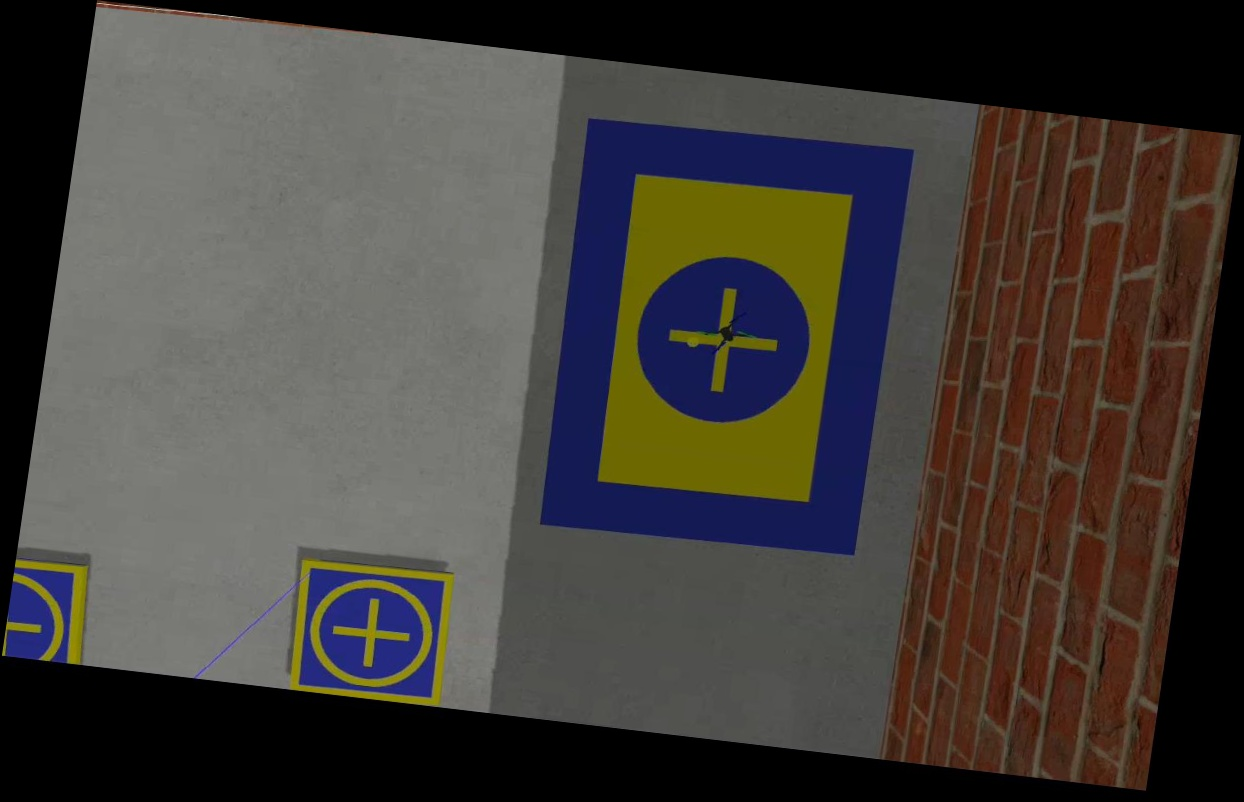large_base: (529, 111, 913, 561)
small_base: (282, 556, 459, 705), (1, 553, 95, 668)
